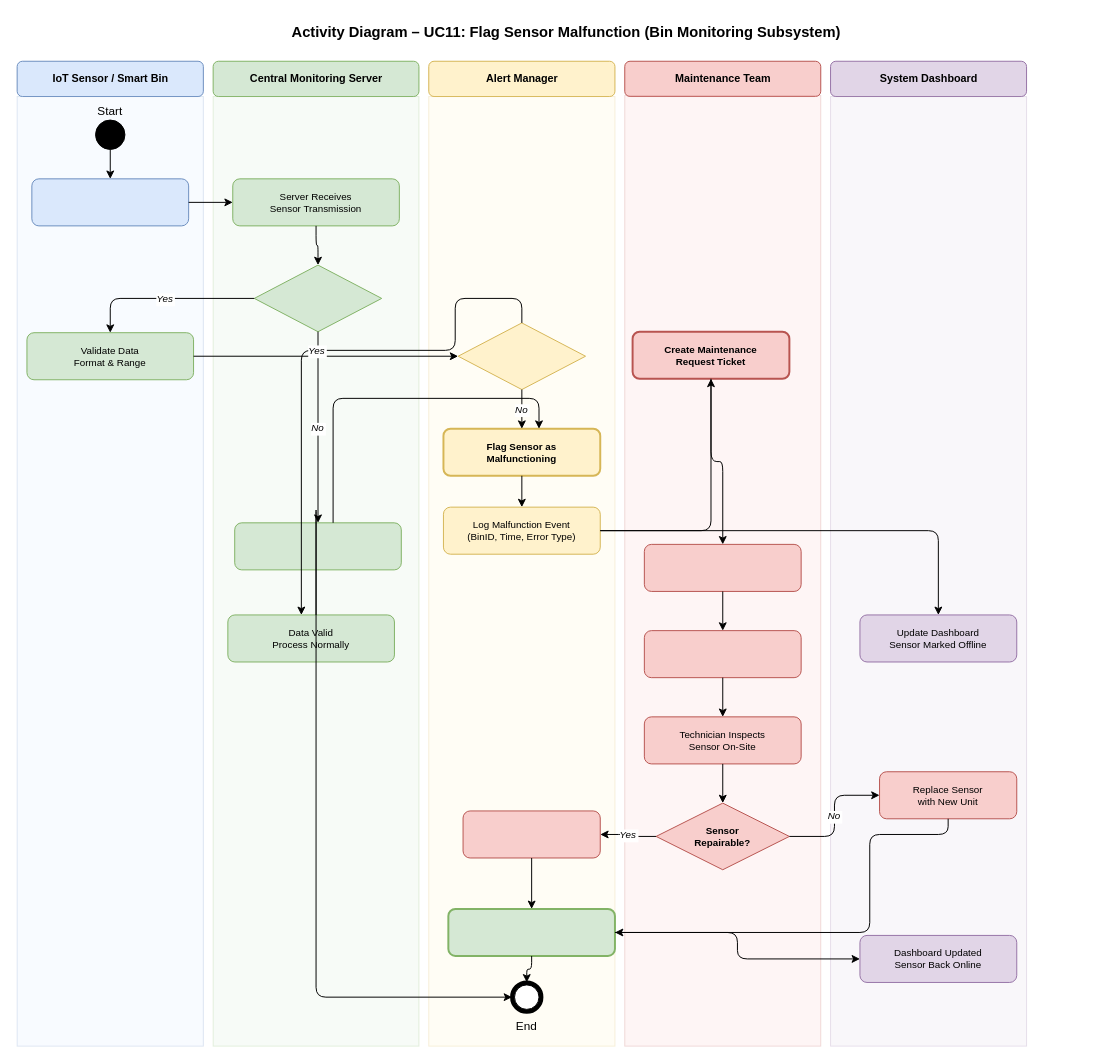
The diagram is 1112 pixels wide and 1063 high, and some of its shapes have lost their labels. The centre of each missing label's shape, as x and y in pixels:
Check Transmission Timeout / No Signal: the point at 317,546
Data Received?: the point at 317,298
Data Valid?: the point at 521,356
Mark Sensor Online Close Maintenance Ticket: the point at 531,931
Repair & Recalibrate Sensor: the point at 531,834
Send Notification to Maintenance Technician: the point at 722,567
Sensor Transmits Data to Server: the point at 110,202
Technician Receives Maintenance Alert: the point at 722,654
